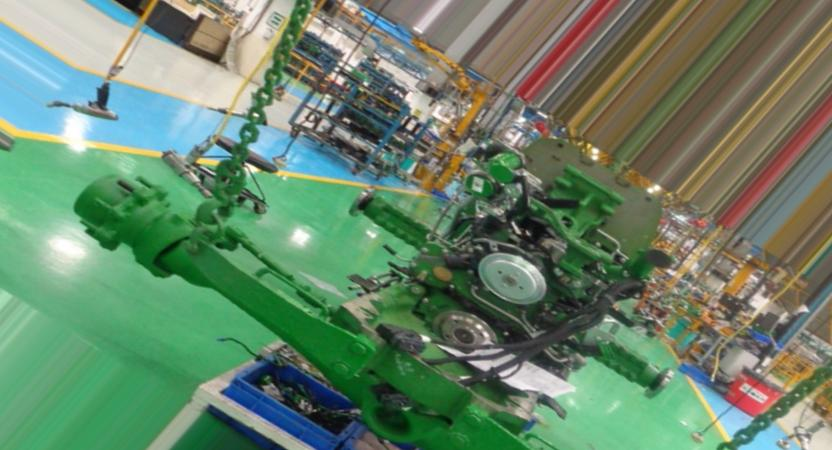engine: (74, 129, 685, 440)
